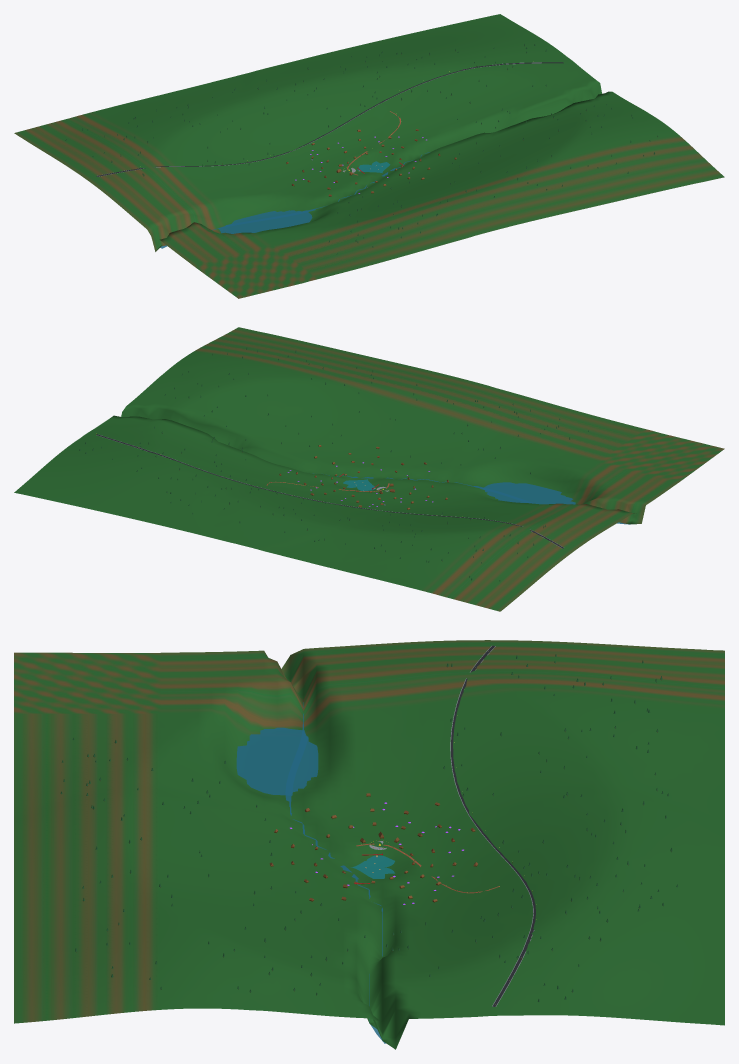
Rendered from ring3_w4_lang_cu_lan_kho_village_and_suoi_can_lake.glb.
The picture shows the model from 3 angles, top to bottom: view 1: azimuth 30°, elevation 25°; view 2: azimuth 150°, elevation 25°; view 3: azimuth 270°, elevation 25°; orthographic projection. The views are drawn at different scales.
Visible parts, largest first — view 1: Terrain_LangCuLan_And_SuoiCan_Valley, Water_SuoiCan_Lake_And_Stream_Blend85, Vegetation_LangCuLan_Pine_Canopies, Roads_DT722_Provincial_Highway_Asphalt; view 2: Terrain_LangCuLan_And_SuoiCan_Valley, Water_SuoiCan_Lake_And_Stream_Blend85, Vegetation_LangCuLan_Pine_Canopies, Roads_DT722_Provincial_Highway_Asphalt; view 3: Terrain_LangCuLan_And_SuoiCan_Valley, Water_SuoiCan_Lake_And_Stream_Blend85, Vegetation_LangCuLan_Pine_Canopies, Roads_DT722_Provincial_Highway_Asphalt.
Part boxes in pixels (x1=…): Terrain_LangCuLan_And_SuoiCan_Valley: x1=14, y1=14, x2=724, y2=298; Water_SuoiCan_Lake_And_Stream_Blend85: x1=160, y1=152, x2=429, y2=248; Vegetation_LangCuLan_Pine_Canopies: x1=65, y1=44, x2=658, y2=254; Roads_DT722_Provincial_Highway_Asphalt: x1=96, y1=62, x2=563, y2=176; Terrain_LangCuLan_And_SuoiCan_Valley: x1=14, y1=327, x2=724, y2=611; Water_SuoiCan_Lake_And_Stream_Blend85: x1=313, y1=473, x2=630, y2=524; Vegetation_LangCuLan_Pine_Canopies: x1=79, y1=347, x2=588, y2=581; Roads_DT722_Provincial_Highway_Asphalt: x1=96, y1=434, x2=563, y2=548; Terrain_LangCuLan_And_SuoiCan_Valley: x1=14, y1=640, x2=724, y2=1049; Water_SuoiCan_Lake_And_Stream_Blend85: x1=236, y1=702, x2=385, y2=1043; Vegetation_LangCuLan_Pine_Canopies: x1=60, y1=654, x2=677, y2=1001; Roads_DT722_Provincial_Highway_Asphalt: x1=451, y1=645, x2=535, y2=1006.
Size of the model in its own units: 3000 by 205 by 2400.
16 materials, 2 textured.
